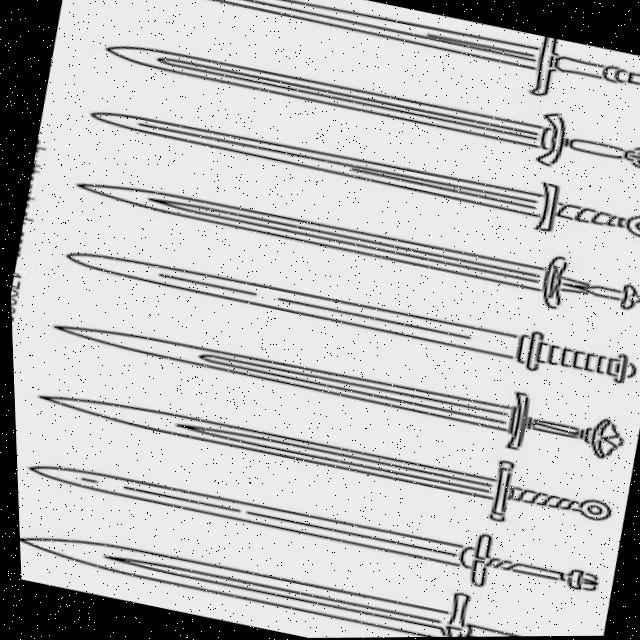knife: (54, 214, 640, 407), (55, 283, 640, 476), (40, 363, 628, 555), (33, 433, 615, 624), (71, 146, 640, 339), (82, 75, 640, 268), (94, 16, 640, 198), (20, 504, 601, 640), (103, 0, 640, 128)
